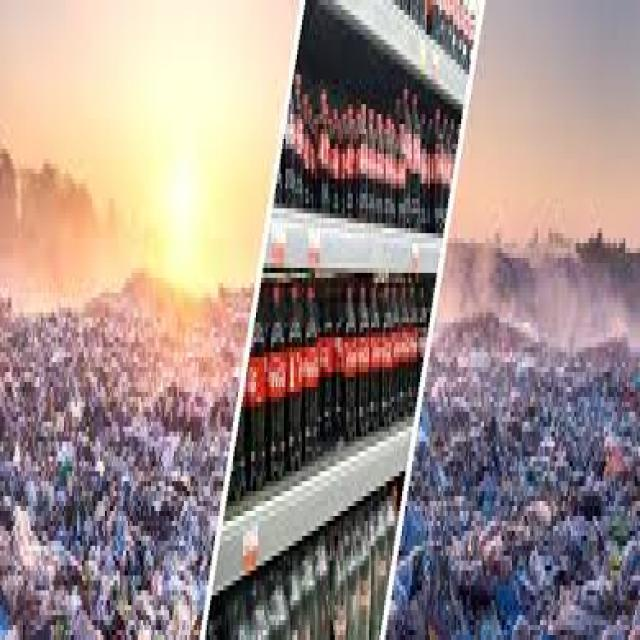heap: (434, 297, 638, 640)
